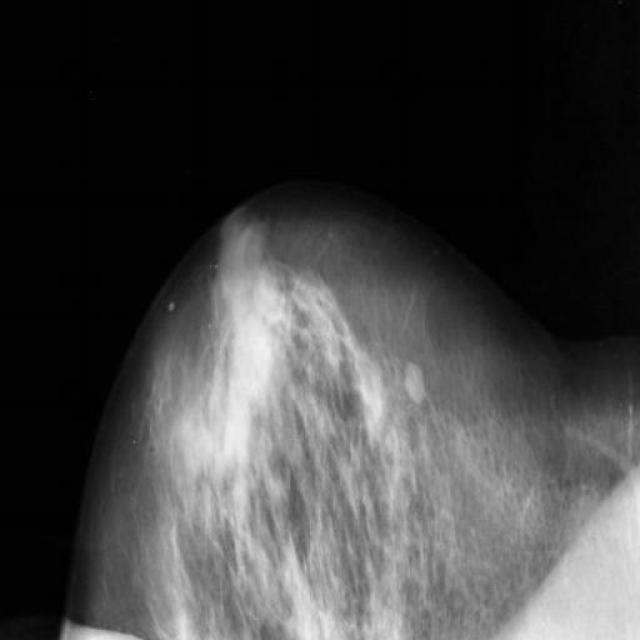cancer: (391, 330, 434, 430)
